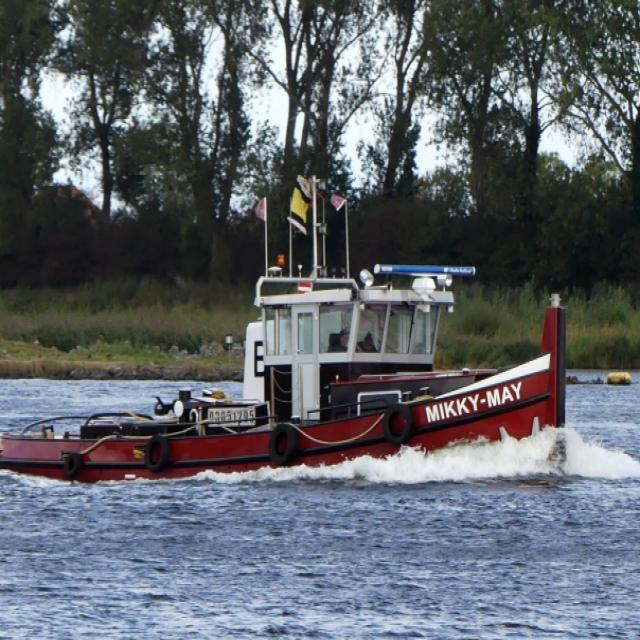tugboat: (1, 257, 574, 495)
